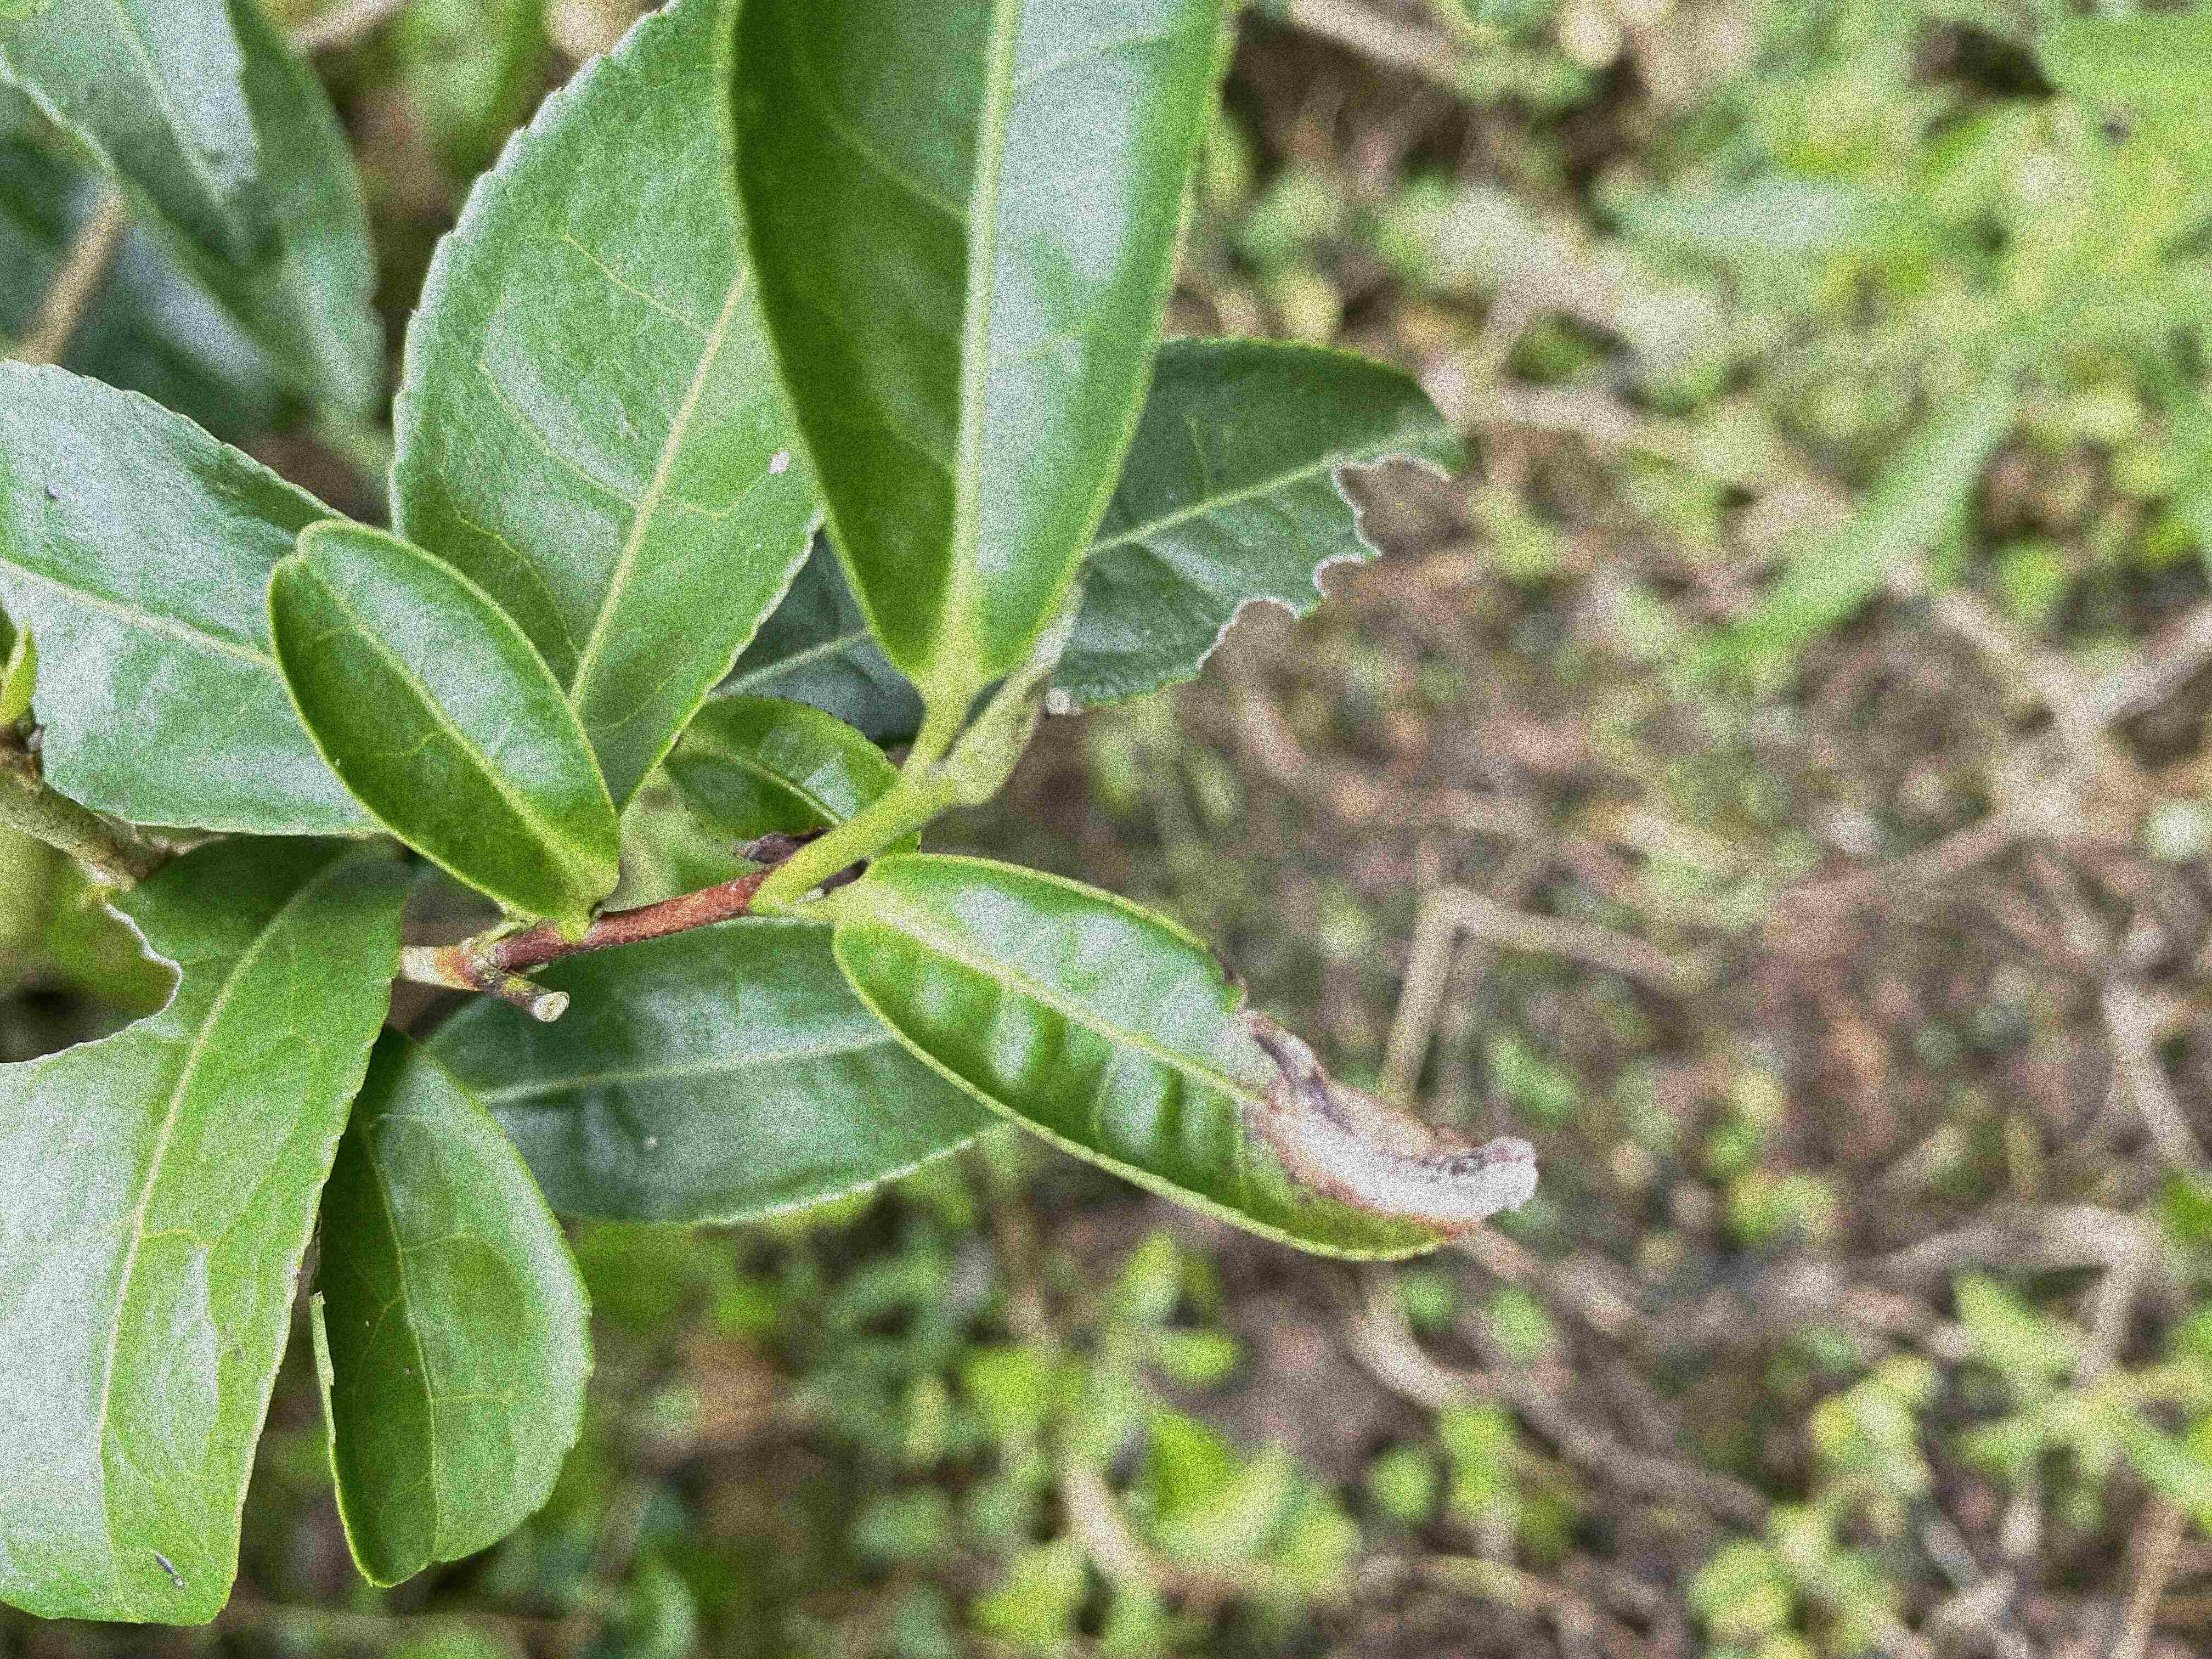chihuo_high: (5, 835, 408, 1629), (810, 338, 1465, 751)
healthy: (265, 519, 622, 925)
tanju_high: (836, 850, 1541, 1263)
